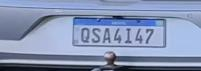Placa_mercosul_carro: (73, 17, 167, 48)
